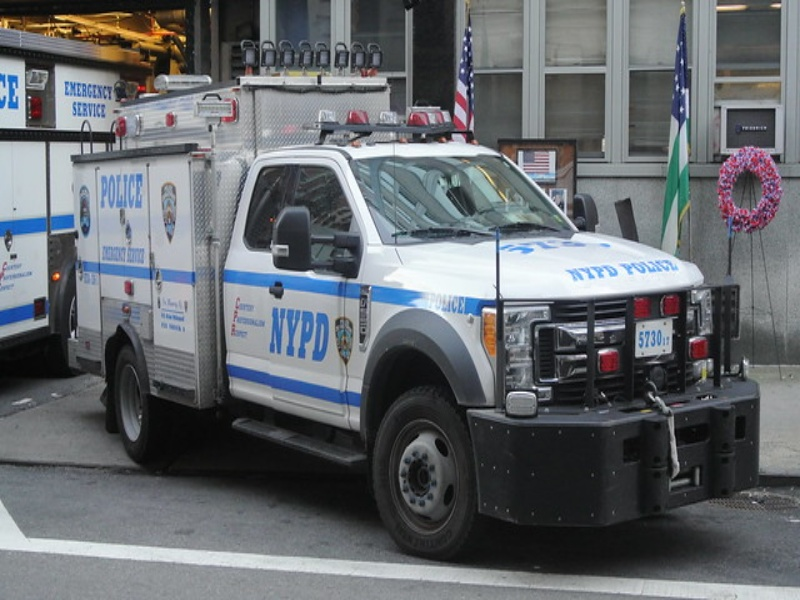policetruck: (101, 88, 790, 579)
